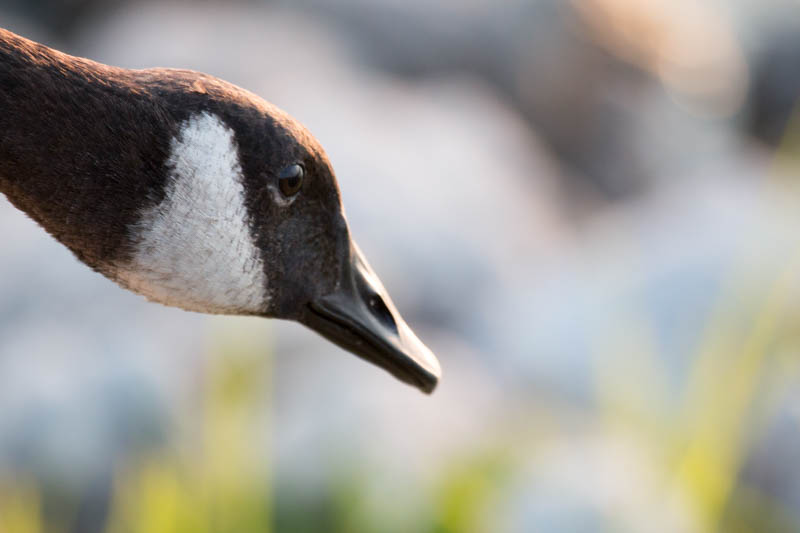goose-head: (76, 59, 444, 396)
